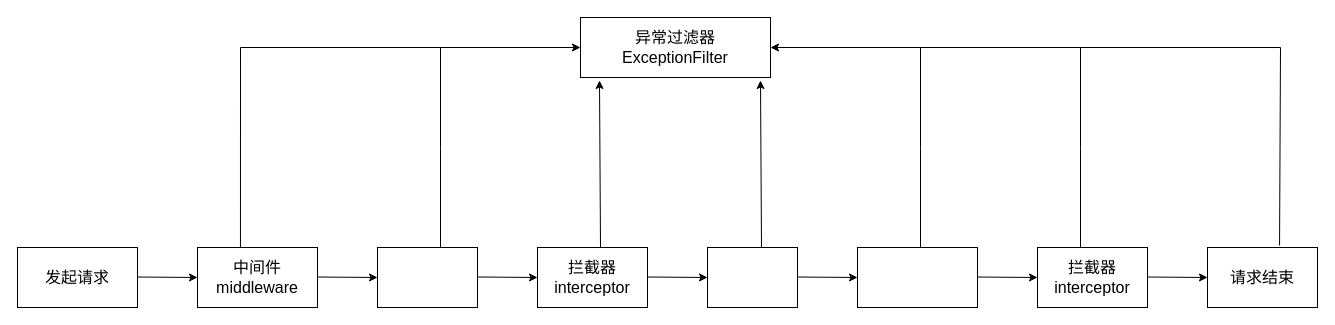
This 1335x325 diagram has some shape labels left out. The centre of each missing label's shape, as x and y in pixels:
守卫 guard: the point at 427,277
管道 pipe: the point at 752,277
逻辑处理函数: the point at 917,277
